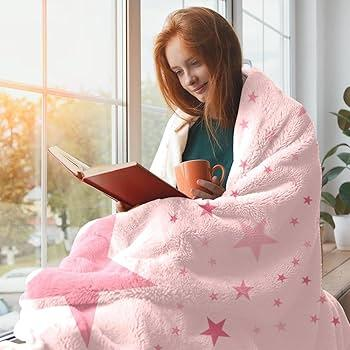blanket: (12, 66, 349, 350)
